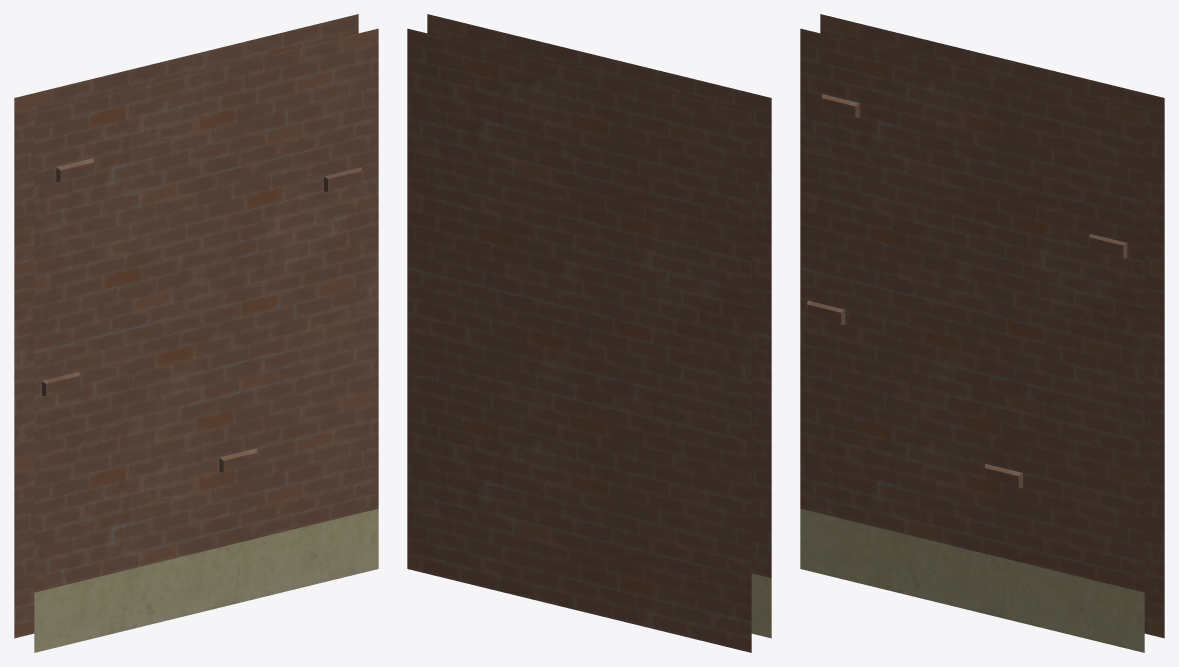
The model's file is brick_bottomtrim.glb.
3 views of the same model, side by side, from view 1: azimuth 30°, elevation 25°; view 2: azimuth 150°, elevation 25°; view 3: azimuth 330°, elevation 25° (orthographic).
Visible parts, largest first — view 1: Brick_BottomTrim; view 2: Brick_BottomTrim; view 3: Brick_BottomTrim.
Part boxes in pixels (x1,y1,x2,y2): Brick_BottomTrim: (14,14,378,652); Brick_BottomTrim: (407,14,771,652); Brick_BottomTrim: (800,14,1164,652).
Size of the model in its own units: 2 by 3 by 0.229.
3 materials, 3 textured.
